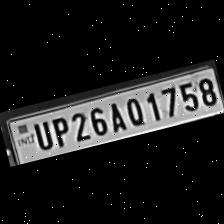1: (140, 87, 164, 123)
2: (64, 107, 90, 143)
5: (173, 76, 199, 113)
6: (83, 102, 108, 136)
7: (156, 82, 180, 118)
8: (192, 72, 218, 107)
A: (102, 96, 127, 133)
P: (46, 112, 71, 147)
Q: (120, 92, 146, 128)
U: (28, 117, 52, 151)
